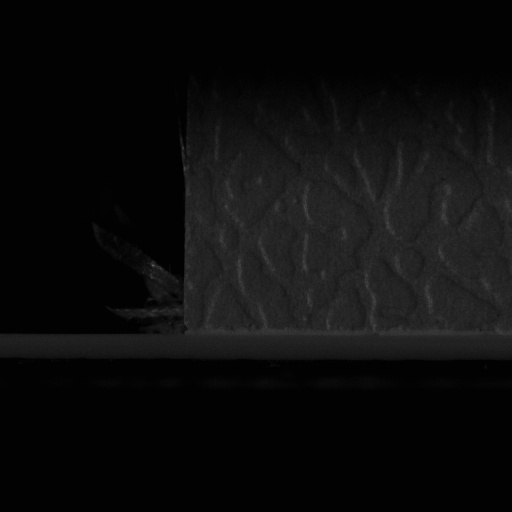changdai: (3, 333, 189, 359)
